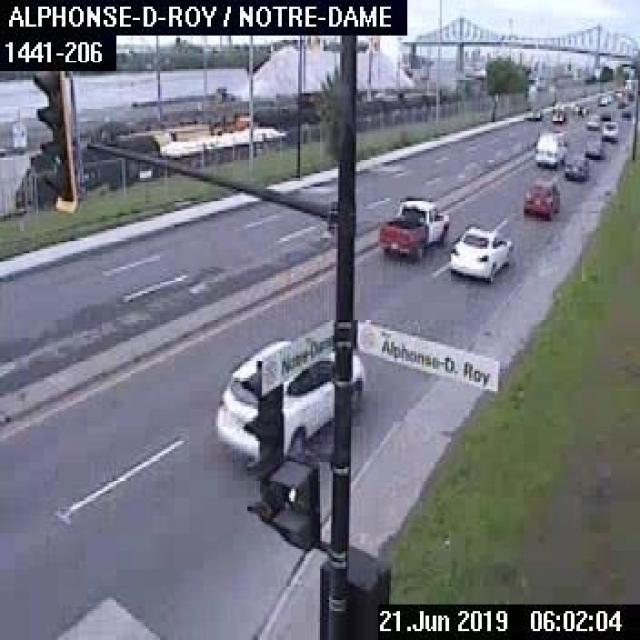vehicle: (212, 328, 364, 462), (372, 194, 450, 262), (445, 218, 513, 283), (520, 176, 558, 216), (530, 128, 566, 168), (563, 150, 587, 180), (584, 132, 608, 158), (598, 118, 619, 144), (549, 102, 569, 124), (523, 104, 544, 122), (583, 110, 600, 130)
